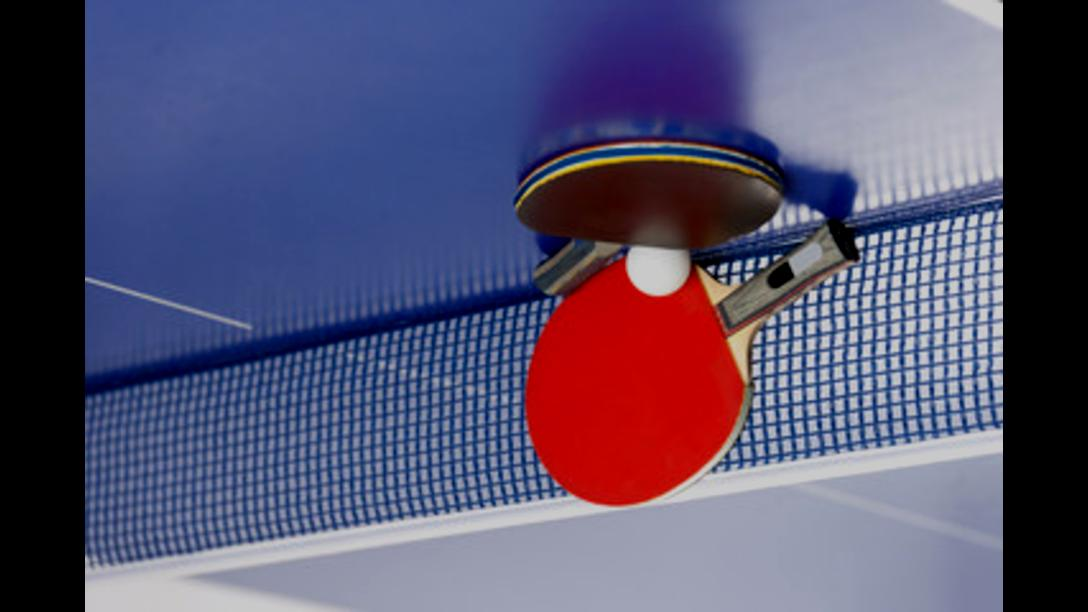Table-Tennis-Ball: (626, 243, 689, 296)
